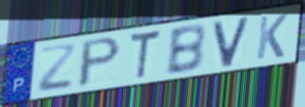B: (164, 22, 207, 77)
K: (254, 12, 290, 61)
P: (75, 35, 124, 90)
T: (127, 28, 162, 81)
V: (211, 15, 252, 70)
Z: (36, 43, 79, 94)
